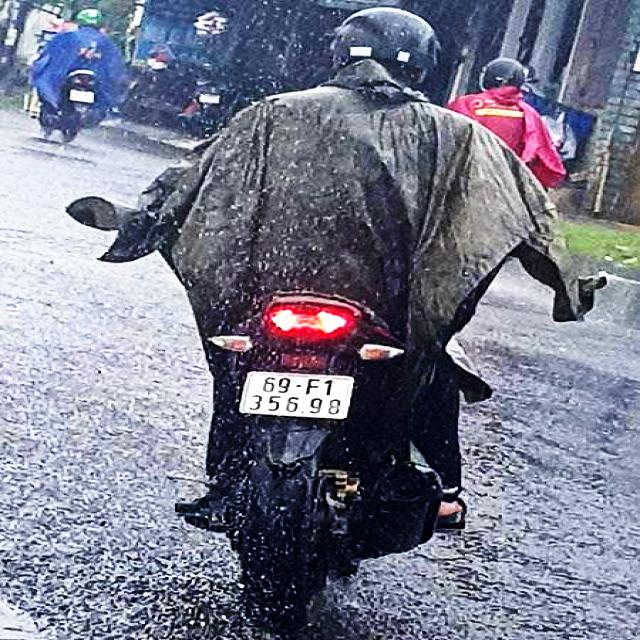license_plate: (239, 375, 354, 421)
